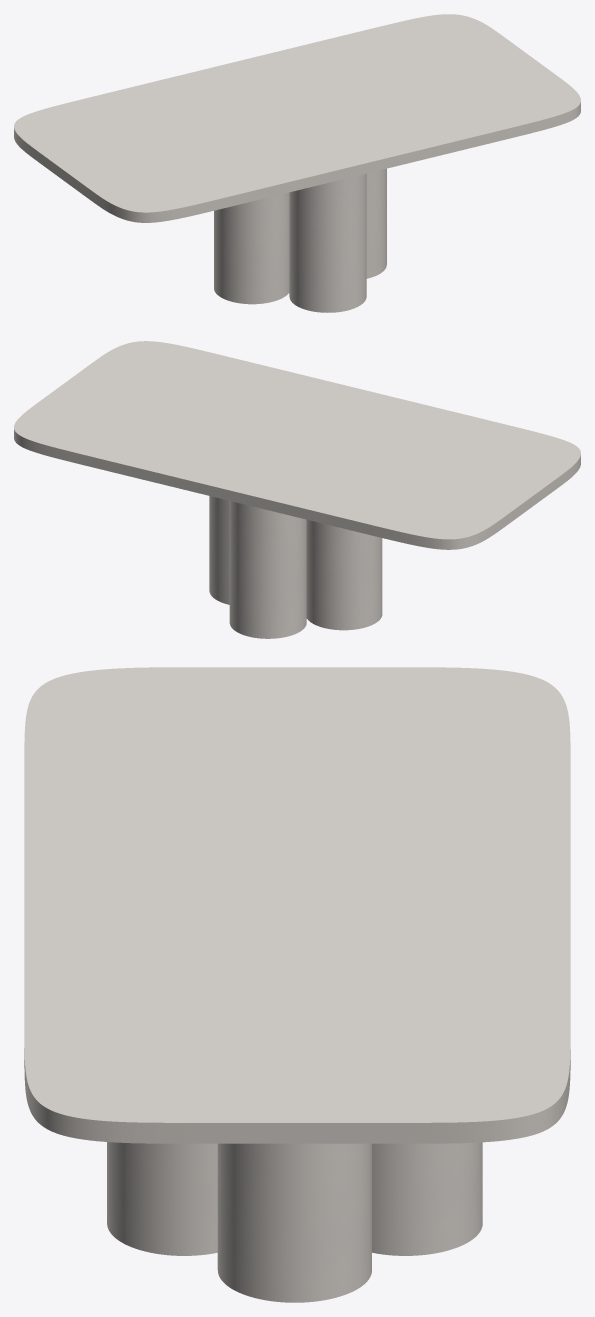
File: pearlwhite_softrecta_standard_secondtable.glb
3 renders of one model, top to bottom at view 1: azimuth 30°, elevation 25°; view 2: azimuth 150°, elevation 25°; view 3: azimuth 270°, elevation 25°, orthographic. The views are drawn at different scales.
Visible parts, largest first — view 1: standard_softrecta, secondtable; view 2: standard_softrecta, secondtable; view 3: standard_softrecta, secondtable.
Boxes of the visible parts, x1,y1,x2,y2 form: standard_softrecta: (14, 14, 580, 222); secondtable: (214, 168, 386, 312); standard_softrecta: (14, 341, 580, 549); secondtable: (209, 496, 382, 638); standard_softrecta: (24, 667, 570, 1143); secondtable: (107, 1142, 482, 1302).
Bounding box in the file's own units: 7.5 × 2.5 × 3.8.
Materials: 1 (1 with a texture image).
